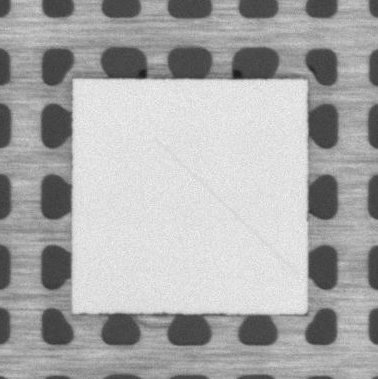DIE_CRACK: (155, 138, 296, 274)
